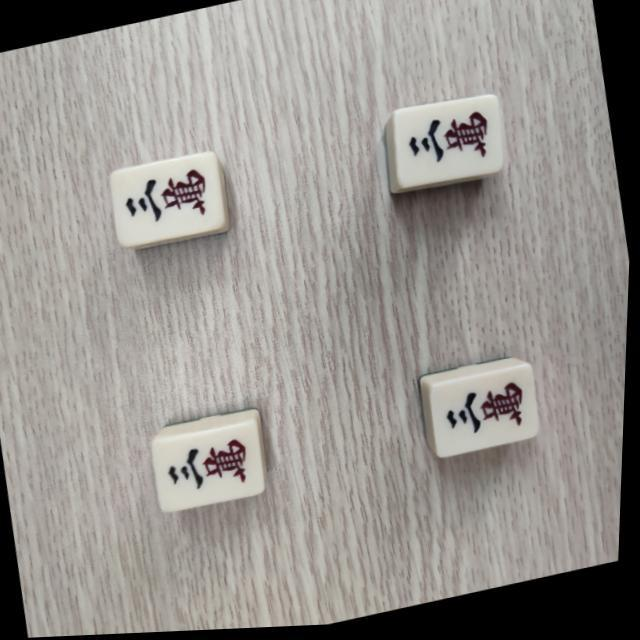sc3: (113, 158, 218, 242), (434, 373, 540, 456), (396, 100, 502, 182), (158, 428, 262, 508)
